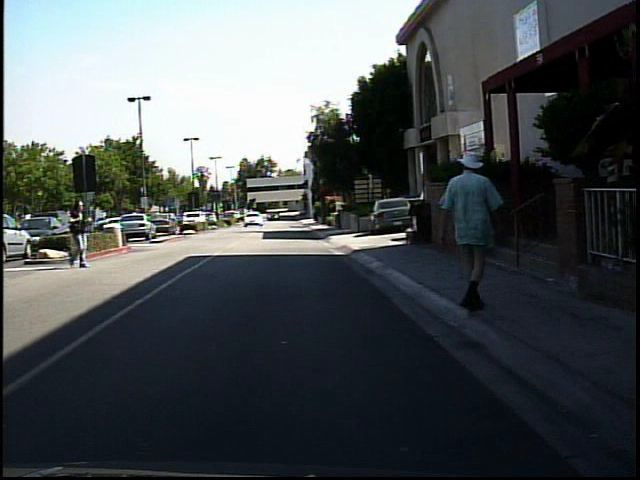person: (434, 138, 508, 317), (63, 193, 97, 272), (163, 206, 178, 231)
